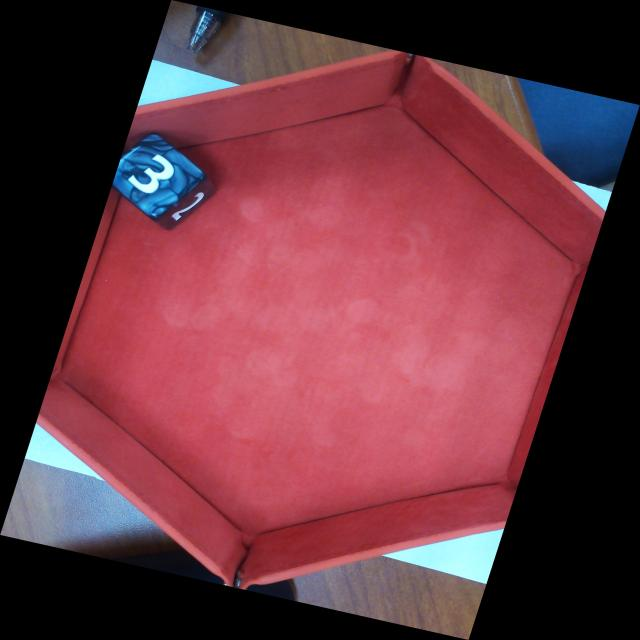dice: (111, 132, 205, 218)
